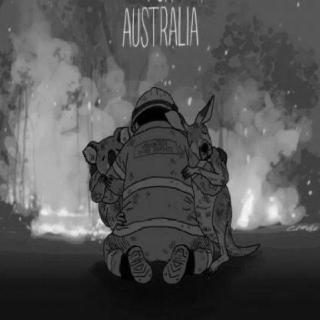Fire: (7, 157, 105, 243)
